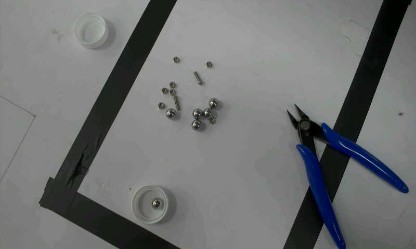ironball: (151, 198, 162, 210), (202, 107, 212, 118), (191, 108, 201, 119), (190, 119, 200, 130), (208, 97, 217, 109), (165, 108, 175, 118)
